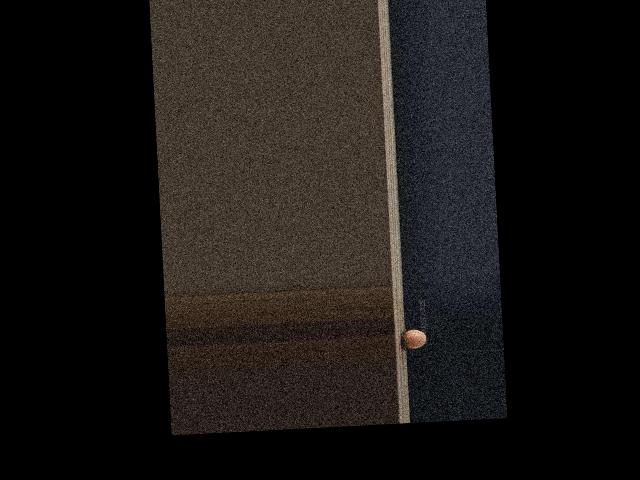egg: (404, 329, 426, 349)
